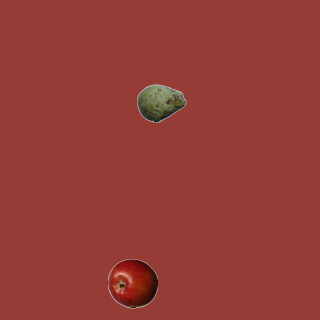Apple Braeburn: (107, 258, 157, 308)
Pear Stone: (136, 78, 186, 128)
